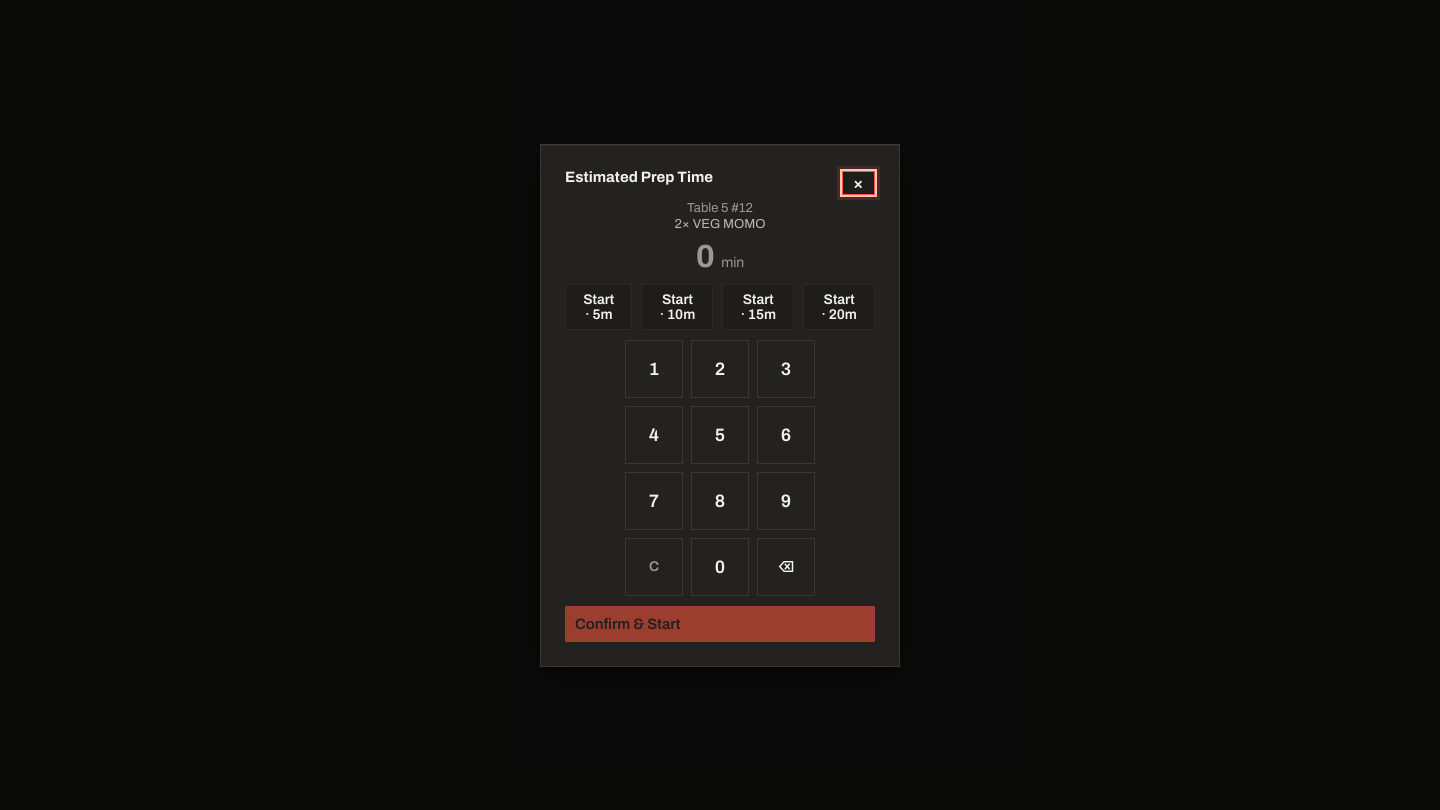
Test case: the C and ⌫ keys are named, and the minutes readout is a polite live region
Check: the button named "Clear minutes" reads "C", box left=625, top=538, right=683, bottom=596
Check: the button named "Delete last digit" reads "⌫", box left=757, top=538, right=815, bottom=596
Click the button "1". click: point(654, 368)
box: left=625, top=340, right=683, bottom=398
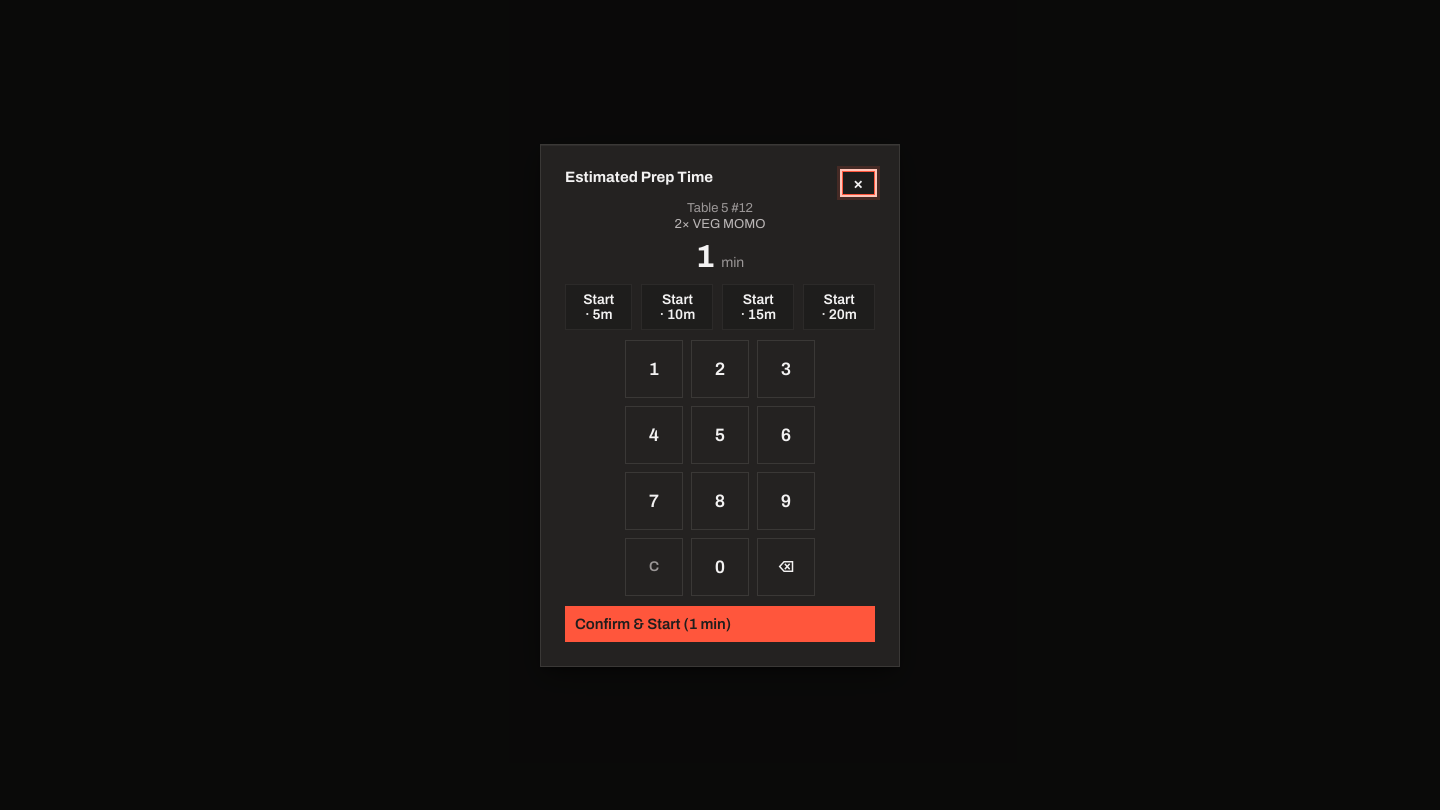
Click the button "5". click: point(720, 434)
box: left=691, top=406, right=749, bottom=464
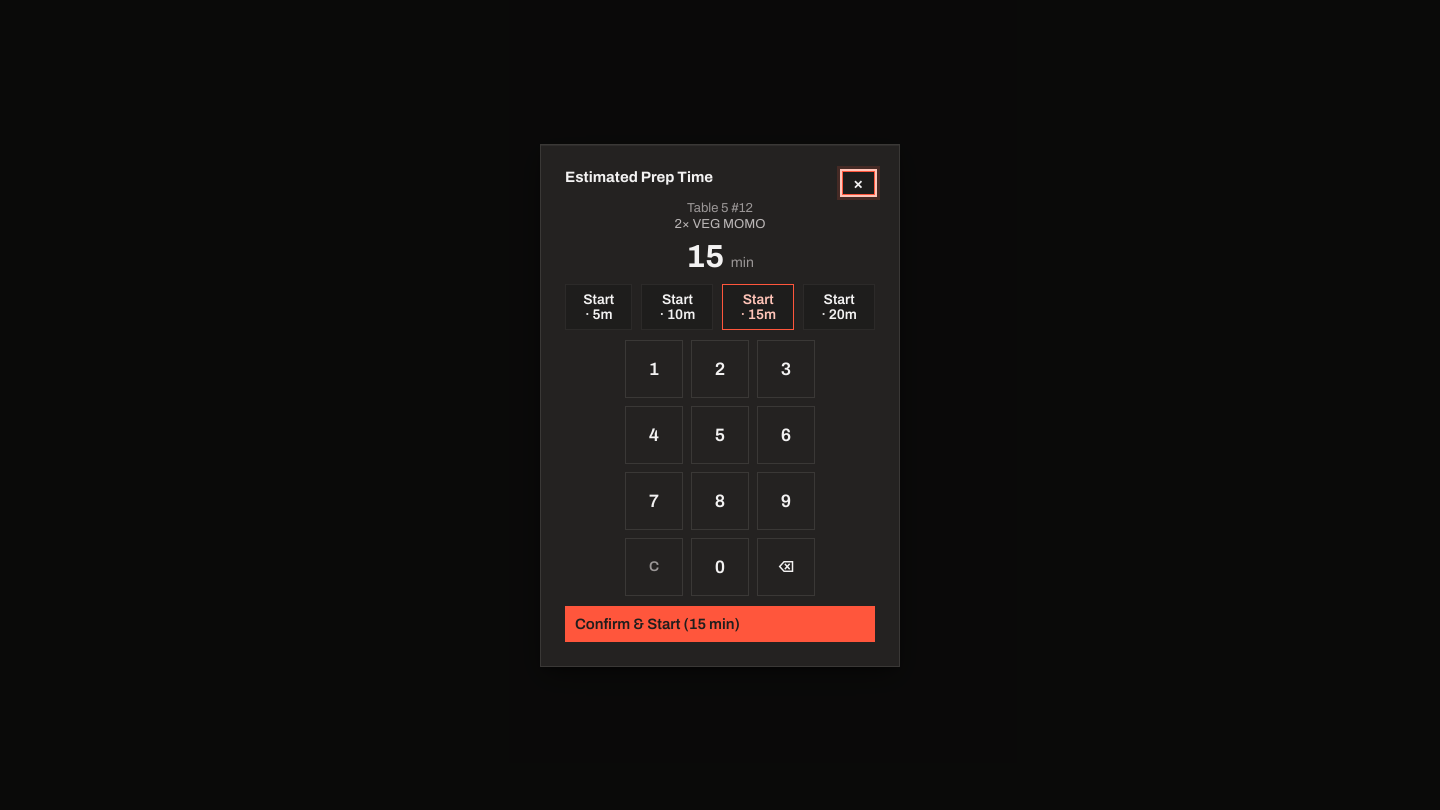
Check: the element showing "15 min" is shown, box left=686, top=238, right=754, bottom=274
Click the button named "Delete last digit". click: point(786, 566)
box: left=757, top=538, right=815, bottom=596
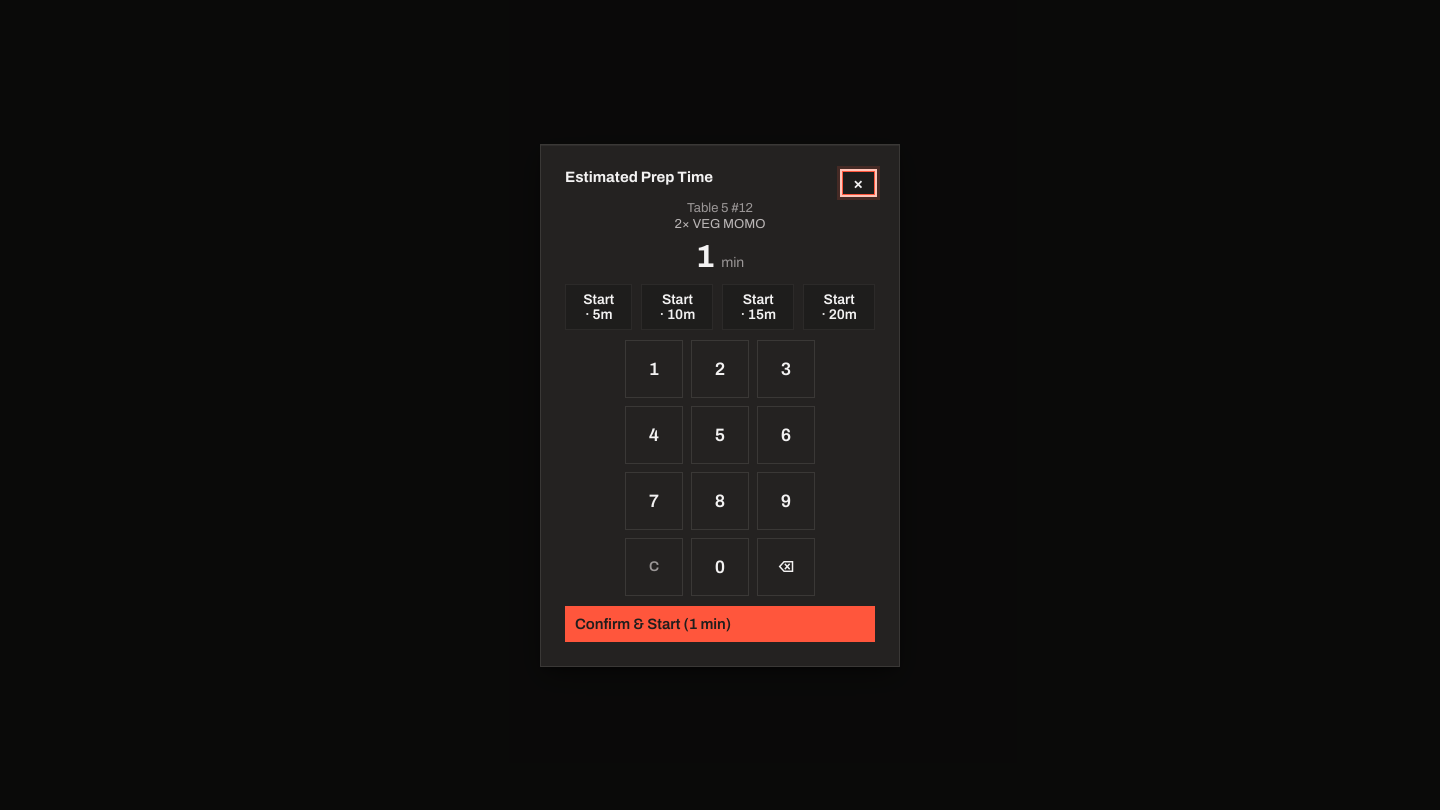
Check: the element showing "1 min" is shown, box left=696, top=238, right=744, bottom=274
Click the button named "Clear minutes". click: point(654, 566)
box: left=625, top=538, right=683, bottom=596
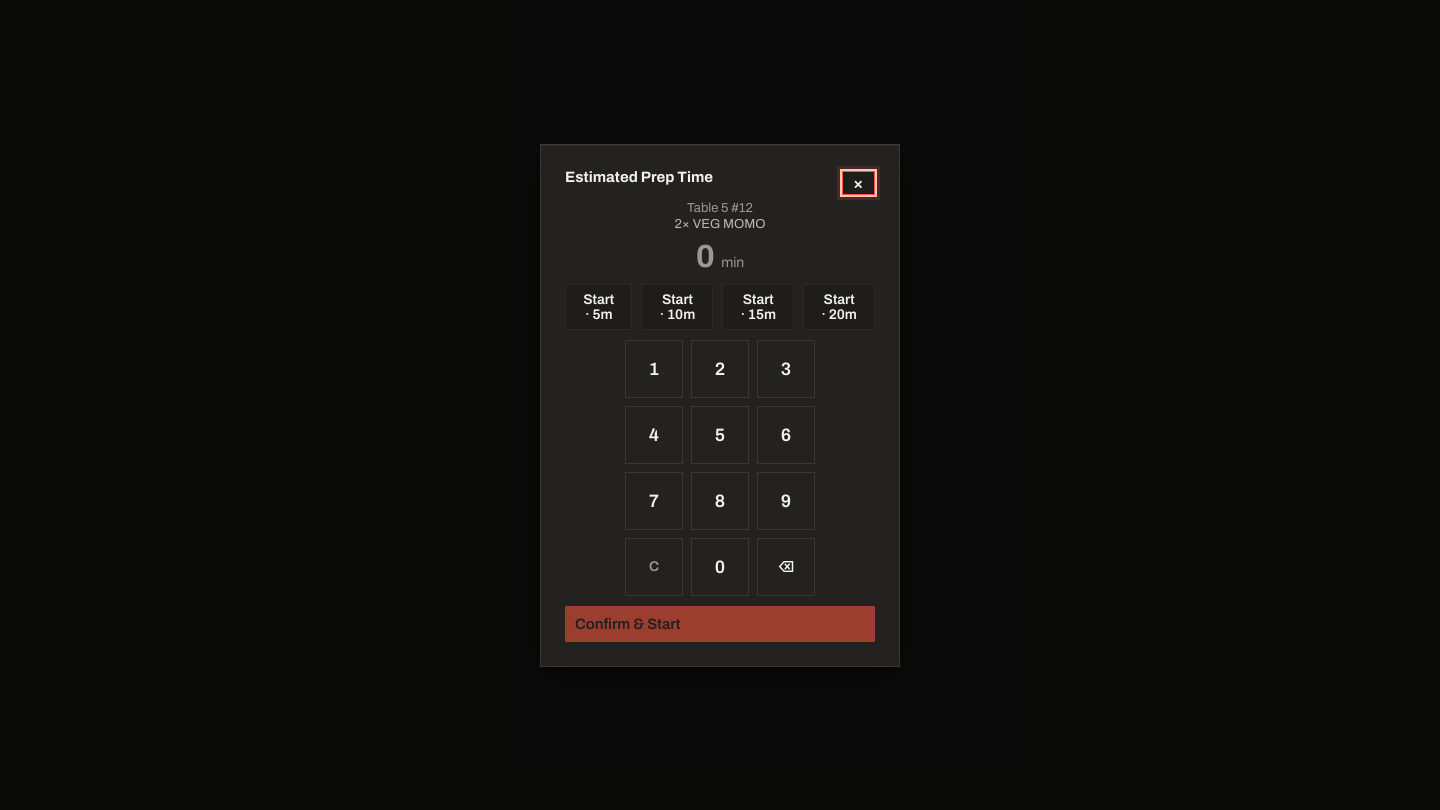
Check: the element showing "0 min" is shown, box left=696, top=238, right=744, bottom=274
